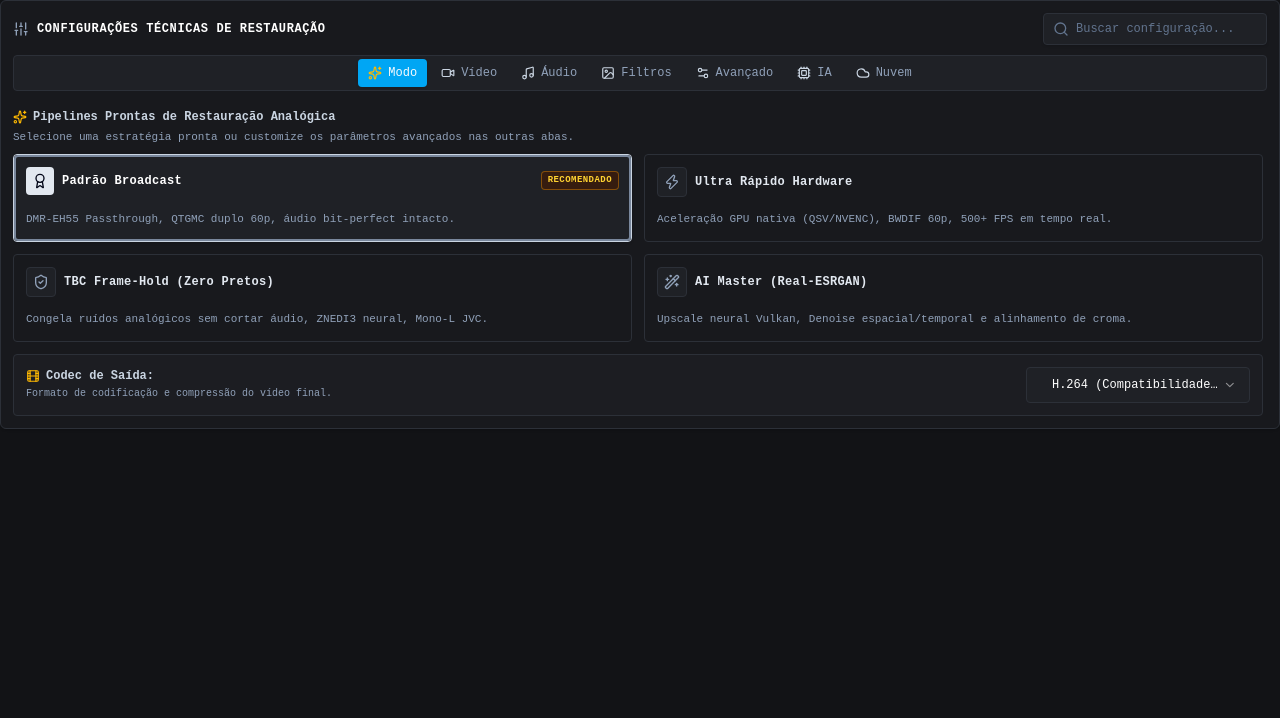
Test case: RestorationSettings UX/UI & Layout Tests ("Feng Shui" & Coerência Visual) › navigates to AI & Performance tab and renders honest hardware diagnostic card
Click the tab "IA". click: {"x": 814, "y": 73}
box: 787,59 -> 842,87
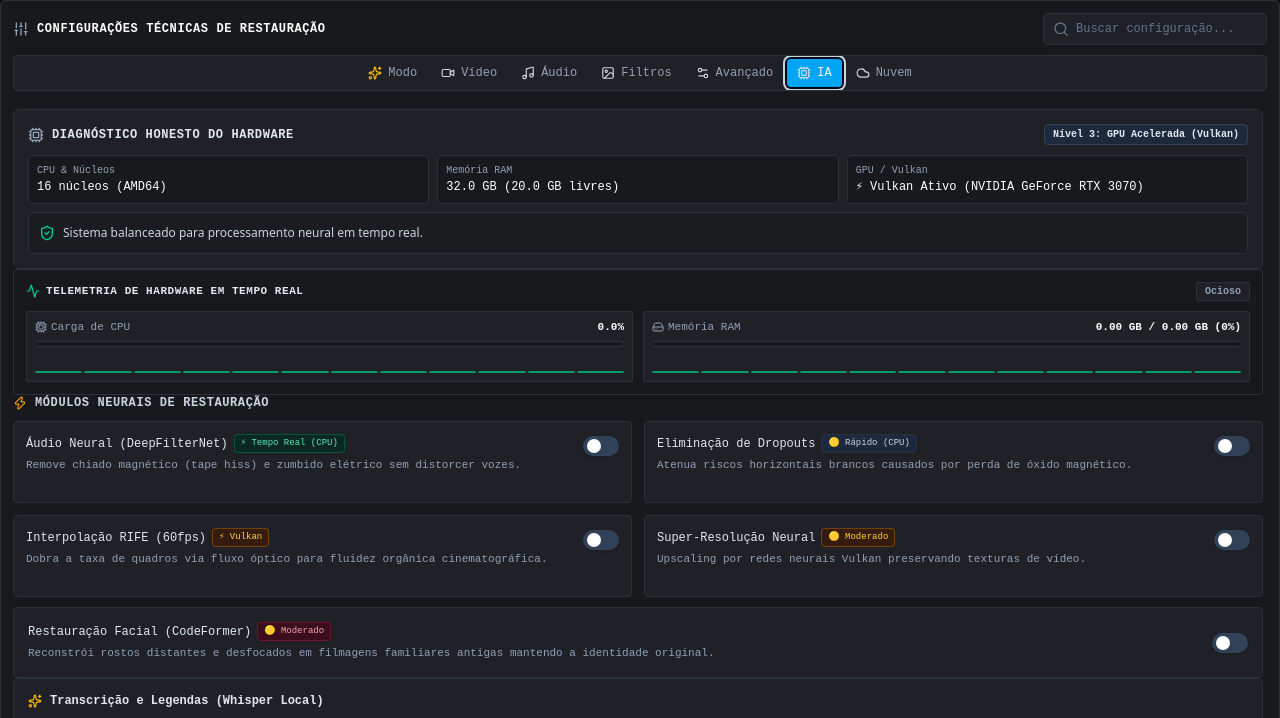
Expected: the heading "Diagnóstico Honesto do Hardware" is shown, 52,126 -> 294,142
Expected: the text "Nível 3: GPU Acelerada (Vulkan)" is shown, 1044,124 -> 1248,145
Expected: the heading "Módulos Neurais de Restauração" is shown, 13,396 -> 269,410
